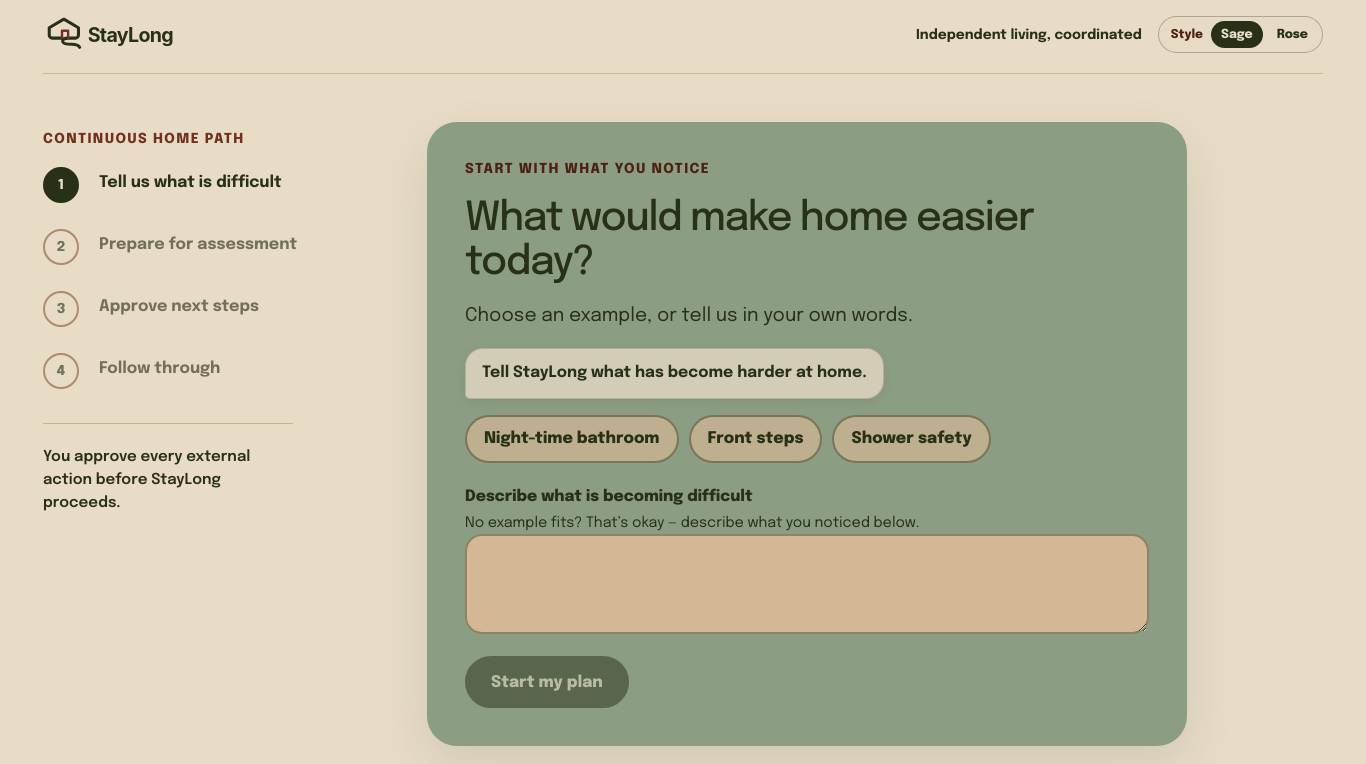
Scenario: StayLong Continuous Home Path › shows practical plan details before optional help
Type "Getting to the bathroom at night is difficult." into the text box labelled "Describe what is becoming difficult" at (807, 584), box [465,534,1149,634]
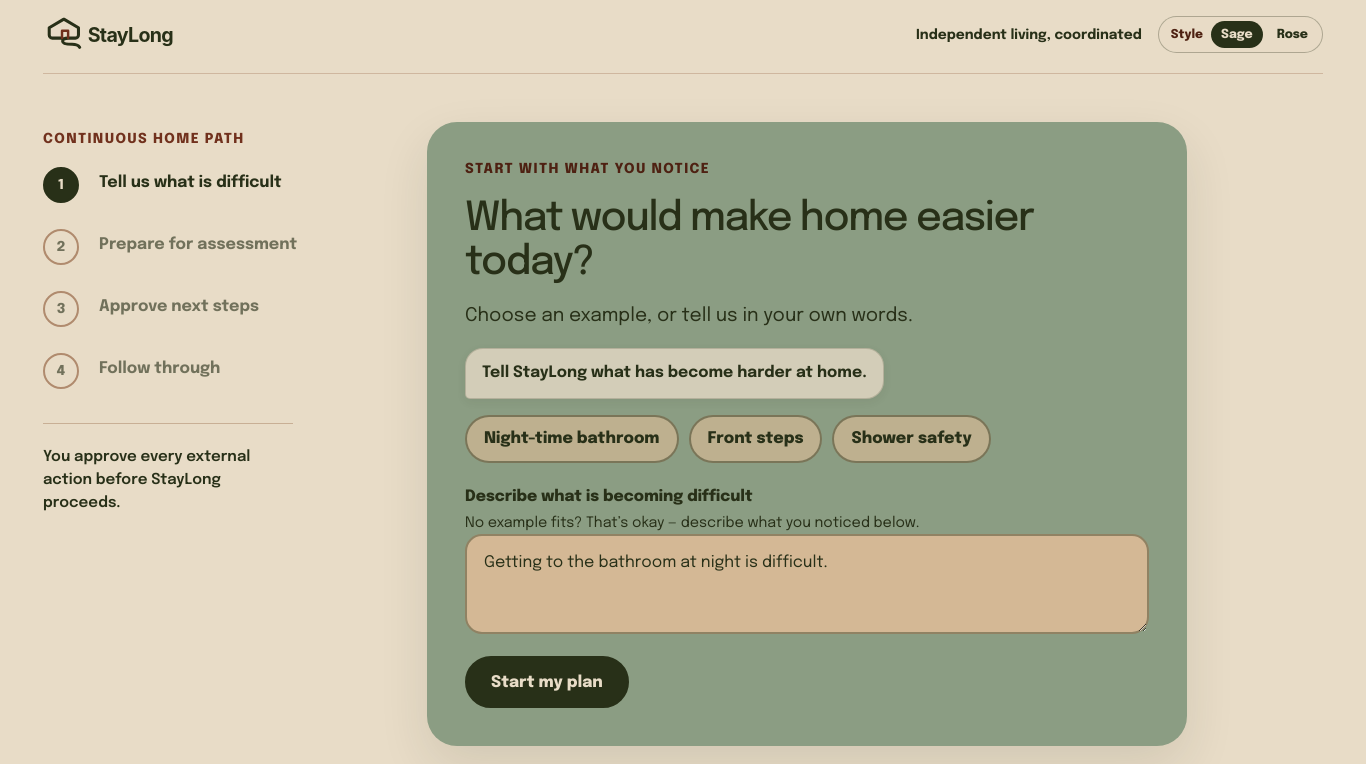
Click the button "Start my plan" at (547, 682), box [465,656,629,708]
(page scrolled)
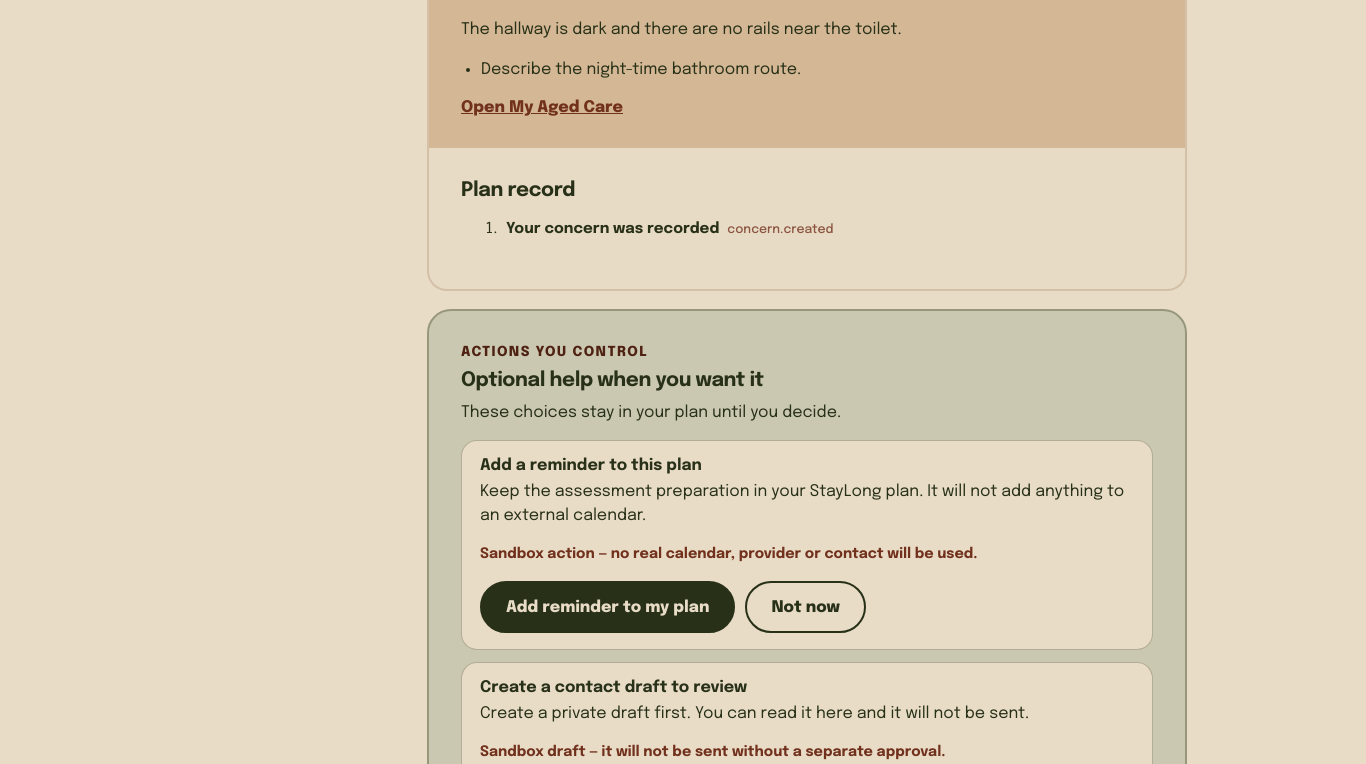
Now the heading "Optional help when you want it" is shown, box [461,370,764,391]
